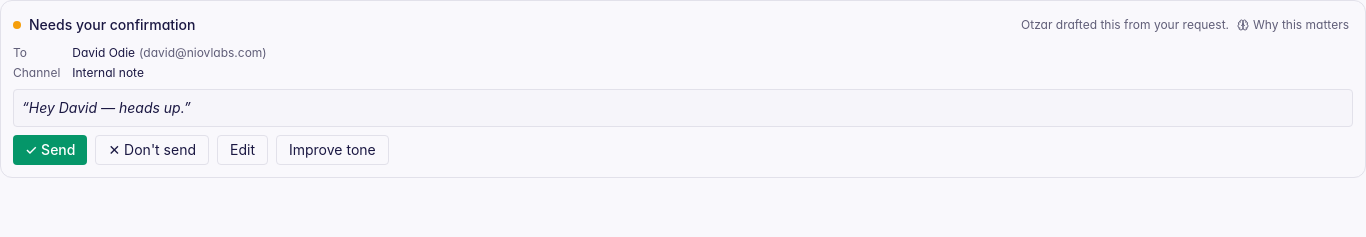
Test: ProposedActionCard — friendly error copy (Warmwind language pass) › translates DUAL_CONTROL_NO_APPROVER_AVAILABLE into human copy
The width and height of the screenshot is (1366, 237).
Click the button with test id "ctx-send-button". click: (50, 150)
box: [13, 135, 88, 165]
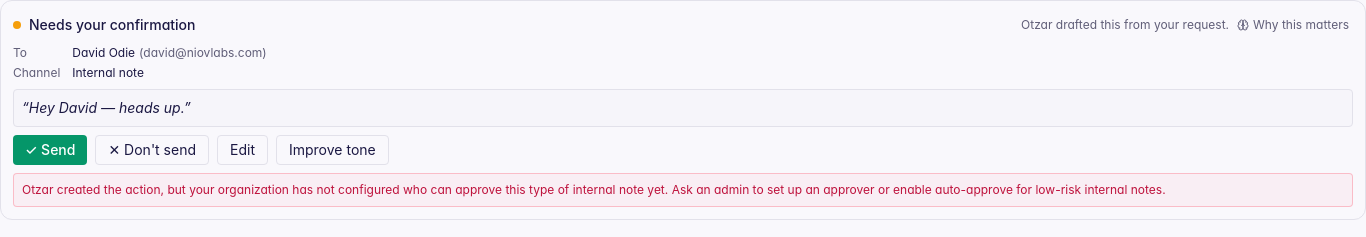
Check: the message with test id "ctx-error" shows "your organization has not configured who can approve", box [22, 182, 1166, 197]
